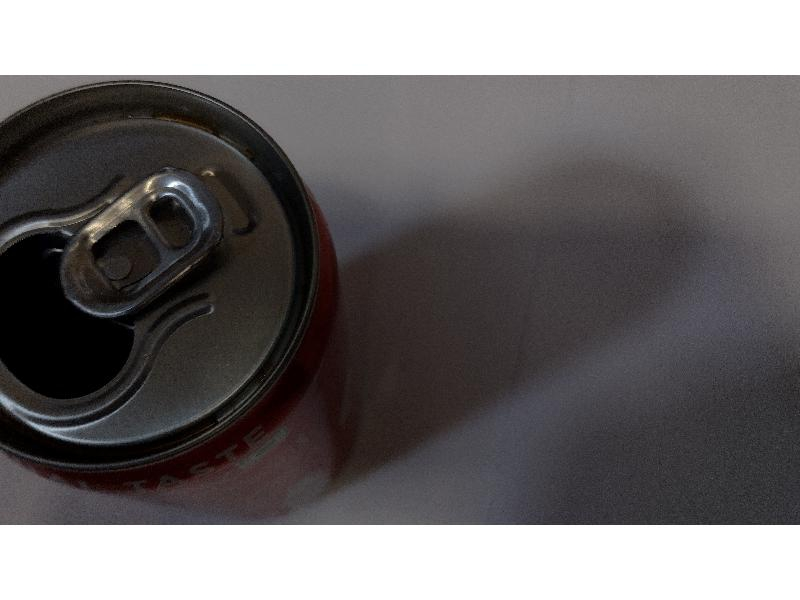can: (3, 80, 360, 521)
